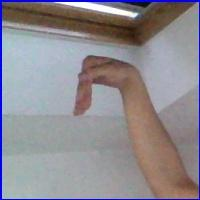del: (67, 51, 151, 122)
